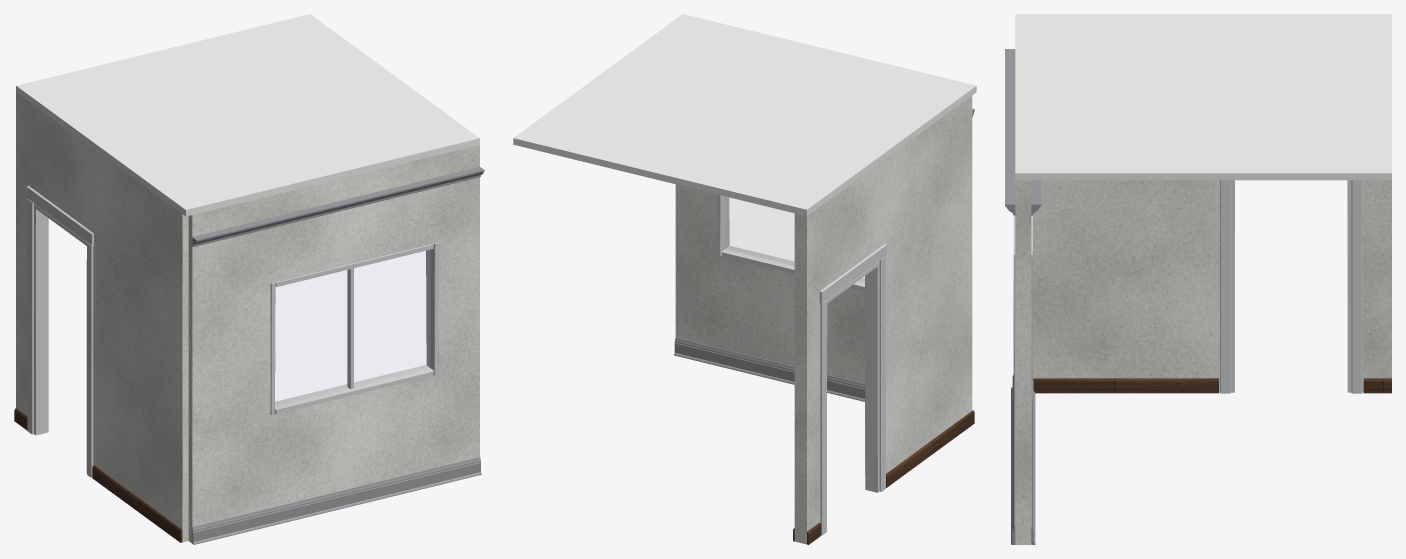
The model's file is g_plan.glb.
3 views of the same model, side by side, from view 1: azimuth 30°, elevation 25°; view 2: azimuth 150°, elevation 25°; view 3: azimuth 270°, elevation 25° (orthographic). The views are drawn at different scales.
Visible parts, largest first — view 1: g_plan_plaster, g_plan_ceil, g_plan_glass, molduras, g_plan_frame, g_plan_gold, g_plan_dkwood; view 2: g_plan_plaster, g_plan_ceil, g_plan_frame, g_plan_glass, molduras, g_plan_gold, g_plan_dkwood; view 3: g_plan_ceil, g_plan_plaster, g_plan_frame, molduras, g_plan_dkwood, g_plan_gold.
Boxes of the visible parts, <box> form: g_plan_plaster: <box>16,92,479,542</box>; g_plan_ceil: <box>16,14,479,216</box>; g_plan_glass: <box>275,250,429,405</box>; molduras: <box>192,167,484,544</box>; g_plan_frame: <box>26,186,93,477</box>; g_plan_gold: <box>270,243,438,415</box>; g_plan_dkwood: <box>14,408,182,542</box>; g_plan_plaster: <box>675,96,972,544</box>; g_plan_ceil: <box>513,14,976,216</box>; g_plan_frame: <box>819,243,886,535</box>; g_plan_glass: <box>725,197,864,282</box>; molduras: <box>674,108,974,401</box>; g_plan_gold: <box>717,194,864,291</box>; g_plan_dkwood: <box>793,410,974,544</box>; g_plan_ceil: <box>1015,14,1391,180</box>; g_plan_plaster: <box>1015,180,1391,544</box>; g_plan_frame: <box>1220,180,1362,393</box>; molduras: <box>1005,49,1041,544</box>; g_plan_dkwood: <box>1033,378,1391,393</box>; g_plan_gold: <box>1013,215,1032,400</box>.
Bounding box in the file's own units: 2.83 × 3.06 × 2.89.
8 materials, 2 textured.
